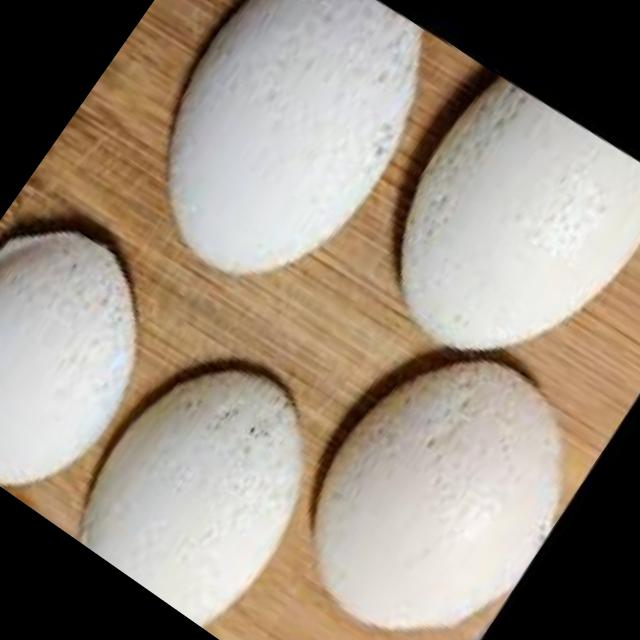idli: (262, 310, 622, 640), (104, 0, 473, 321), (345, 58, 640, 411), (58, 326, 360, 640), (0, 188, 198, 519)
